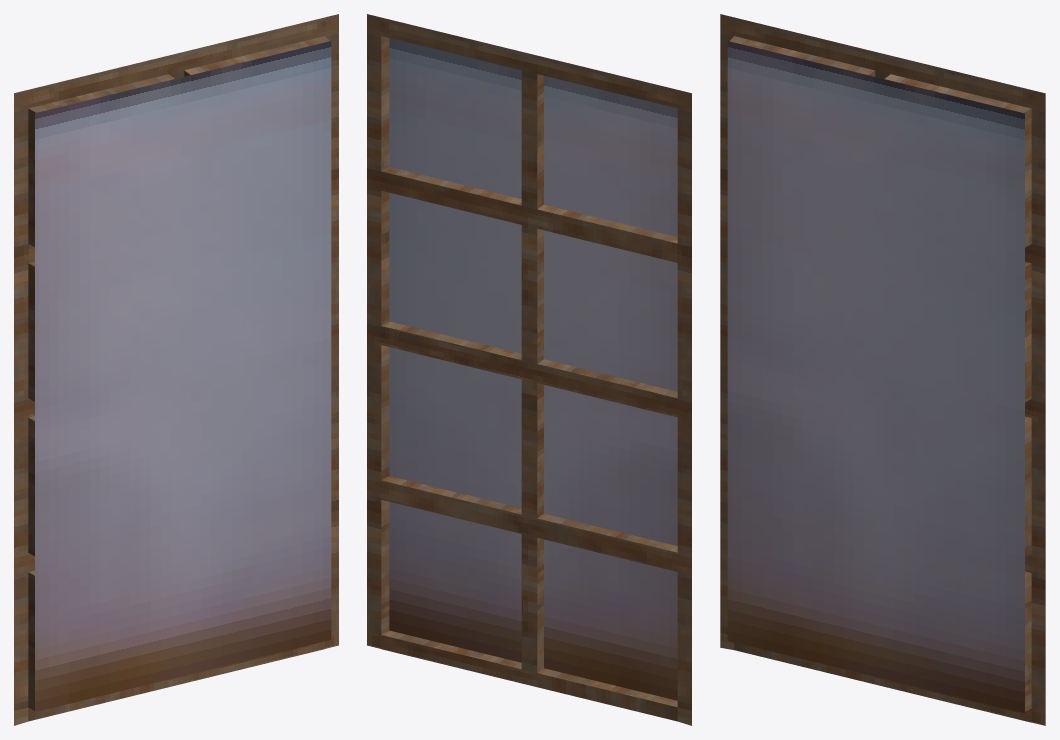
File: GJ_Wall_Window_Frame_01.fbx
3 renders of one model, left to right at view 1: azimuth 30°, elevation 25°; view 2: azimuth 150°, elevation 25°; view 3: azimuth 330°, elevation 25°, orthographic.
Parts seen in each view (by area): view 1: GJ_Wall_Window_Frame_01; view 2: GJ_Wall_Window_Frame_01; view 3: GJ_Wall_Window_Frame_01.
Part boxes in pixels (x1,y1,x2,y2): GJ_Wall_Window_Frame_01: (14, 14, 338, 725); GJ_Wall_Window_Frame_01: (367, 14, 691, 725); GJ_Wall_Window_Frame_01: (720, 14, 1045, 725).
Bounding box in the file's own units: 87.5 × 163 × 3.1.
